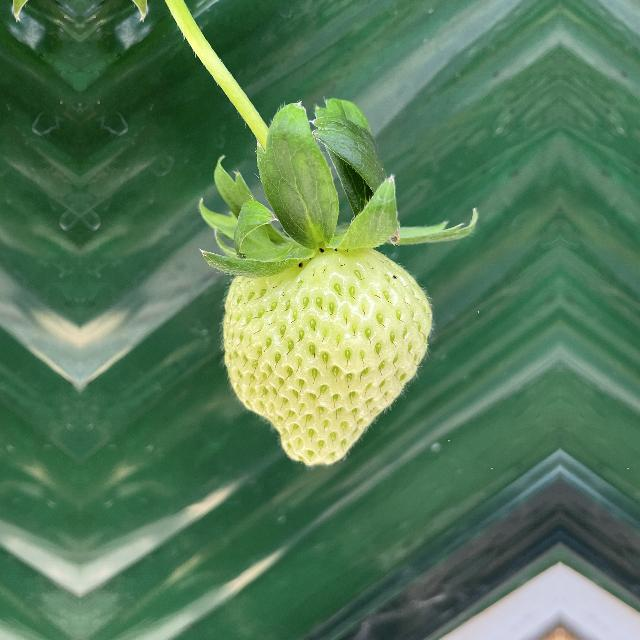Health_25: (218, 232, 436, 468)
